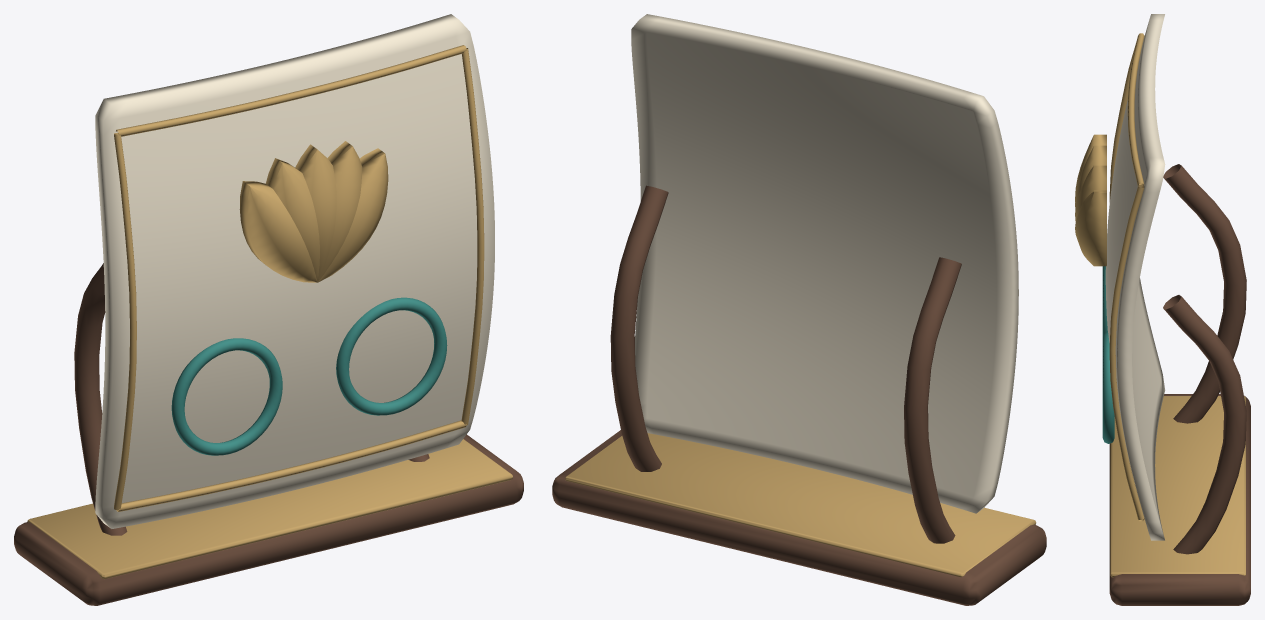
The model's file is encore_invitation.glb.
3 renders of one model, left to right at view 1: azimuth 30°, elevation 25°; view 2: azimuth 150°, elevation 25°; view 3: azimuth 270°, elevation 25°, orthographic. The views are drawn at different scales.
Visible parts, largest first — view 1: Bent ceramic invitation, Champagne edge, Low foot, Swept walnut stand, Five petal invitation crown, Twin signature recessed seat, Twin signature recessed seat.001, Curved foil top and foot.001, Curved foil top and foot, Five petal invitation crown.004, Fine foil frame, Fine foil frame.001 (+3 smaller); view 2: Bent ceramic invitation, Champagne edge, Low foot, Swept walnut stand, Swept walnut stand.001; view 3: Bent ceramic invitation, Champagne edge, Swept walnut stand.001, Swept walnut stand, Low foot, Fine foil frame.001, Five petal invitation crown.004, Curved foil top and foot.001, Twin signature recessed seat.001, Five petal invitation crown.003, Fine foil frame, Five petal invitation crown.002 (+2 smaller).
Part boxes in pixels (x1,y1,x2,y2): Bent ceramic invitation: (95, 14, 494, 528); Champagne edge: (27, 439, 512, 578); Low foot: (14, 434, 523, 605); Swept walnut stand: (74, 263, 127, 535); Five petal invitation crown: (239, 181, 317, 282); Twin signature recessed seat: (171, 338, 282, 455); Twin signature recessed seat.001: (336, 297, 447, 415); Curved foil top and foot.001: (116, 45, 466, 136); Curved foil top and foot: (116, 420, 466, 511); Five petal invitation crown.004: (318, 148, 388, 282); Fine foil frame: (114, 132, 136, 510); Fine foil frame.001: (461, 48, 484, 425); Bent ceramic invitation: (631, 14, 1018, 513); Champagne edge: (565, 433, 1036, 576); Low foot: (552, 430, 1046, 605); Swept walnut stand: (904, 257, 961, 543); Swept walnut stand.001: (610, 185, 668, 471); Bent ceramic invitation: (1105, 14, 1165, 540); Champagne edge: (1110, 396, 1245, 577); Swept walnut stand.001: (1163, 295, 1246, 554); Swept walnut stand: (1163, 164, 1246, 423); Low foot: (1109, 394, 1250, 605); Fine foil frame.001: (1109, 185, 1144, 519); Five petal invitation crown.004: (1075, 190, 1106, 266); Curved foil top and foot.001: (1127, 33, 1144, 187); Twin signature recessed seat.001: (1102, 332, 1114, 443); Five petal invitation crown.003: (1075, 165, 1106, 221); Fine foil frame: (1109, 41, 1136, 201); Five petal invitation crown.002: (1075, 145, 1106, 208).
Bounding box in the file's own units: 1.66 × 1.73 × 0.6482.
